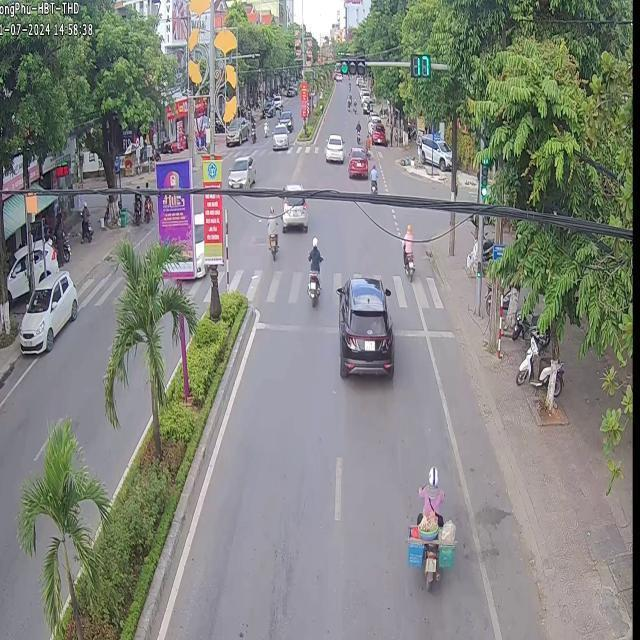car: (337, 274, 393, 378), (18, 269, 77, 351), (280, 196, 306, 231), (227, 154, 254, 187), (347, 145, 367, 176), (323, 131, 342, 161), (283, 182, 300, 189)
green_light: (409, 54, 430, 78), (338, 57, 367, 74), (479, 156, 487, 197)
motobike: (417, 465, 443, 589), (306, 236, 320, 304), (400, 222, 413, 280)
stop_line: (256, 320, 337, 331), (393, 327, 423, 336), (427, 329, 449, 336)
